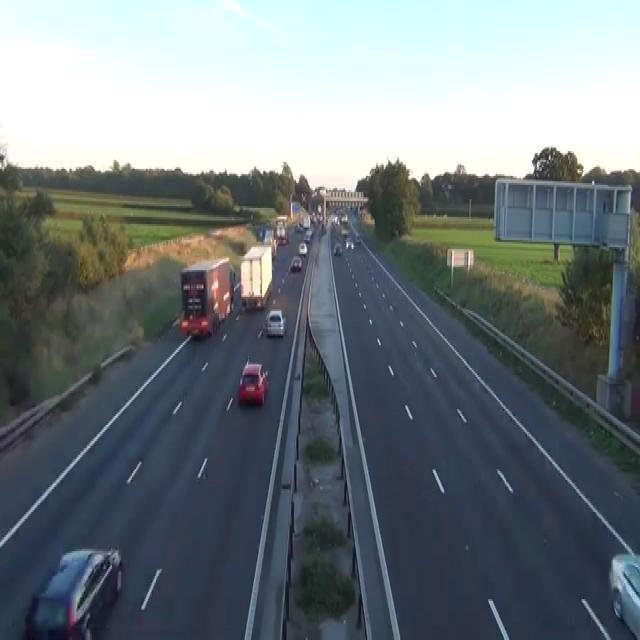Car: (24, 546, 122, 638), (608, 551, 639, 638), (238, 361, 268, 405), (264, 309, 286, 336), (290, 254, 302, 272), (263, 228, 273, 244), (441, 181, 454, 192), (229, 263, 235, 286), (271, 236, 277, 258), (298, 242, 307, 256), (333, 242, 342, 256), (304, 228, 313, 242), (345, 236, 354, 249), (258, 224, 265, 240), (331, 213, 339, 226), (277, 237, 288, 246), (340, 213, 348, 224), (294, 222, 303, 231), (355, 231, 361, 244), (320, 222, 326, 233), (341, 228, 348, 235)
Truck: (179, 256, 234, 338), (240, 243, 272, 310), (263, 228, 277, 258), (275, 215, 287, 240)
